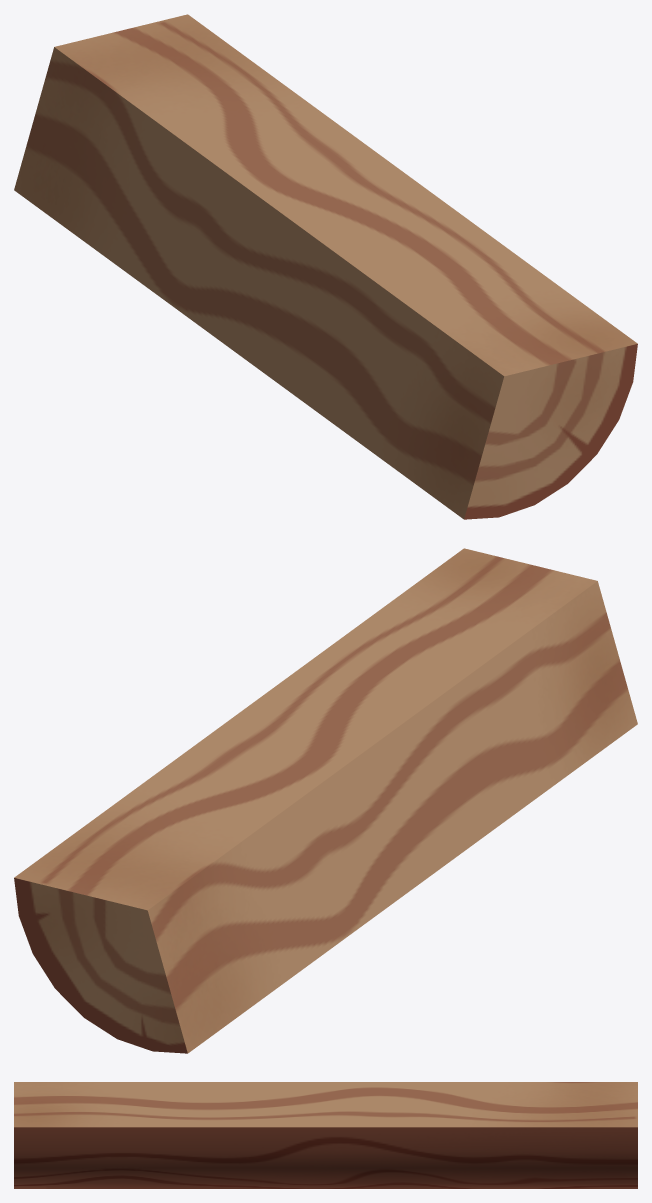
File: Log3.FBX
3 renders of one model, top to bottom at view 1: azimuth 30°, elevation 25°; view 2: azimuth 150°, elevation 25°; view 3: azimuth 270°, elevation 25°, orthographic. The views are drawn at different scales.
Parts seen in each view (by area): view 1: Log3; view 2: Log3; view 3: Log3.
Boxes of the visible parts, bbox=[...] form: Log3: bbox=[14, 14, 637, 519]; Log3: bbox=[14, 548, 637, 1053]; Log3: bbox=[14, 1082, 637, 1188].
Size of the model in its own units: 11.19 by 8.6 by 50.18.
